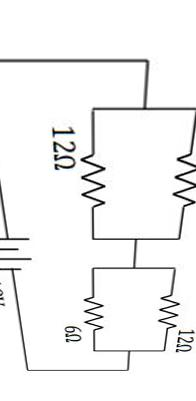resistor: (160, 145, 195, 216), (76, 148, 112, 214), (81, 290, 110, 339), (152, 285, 179, 336)
